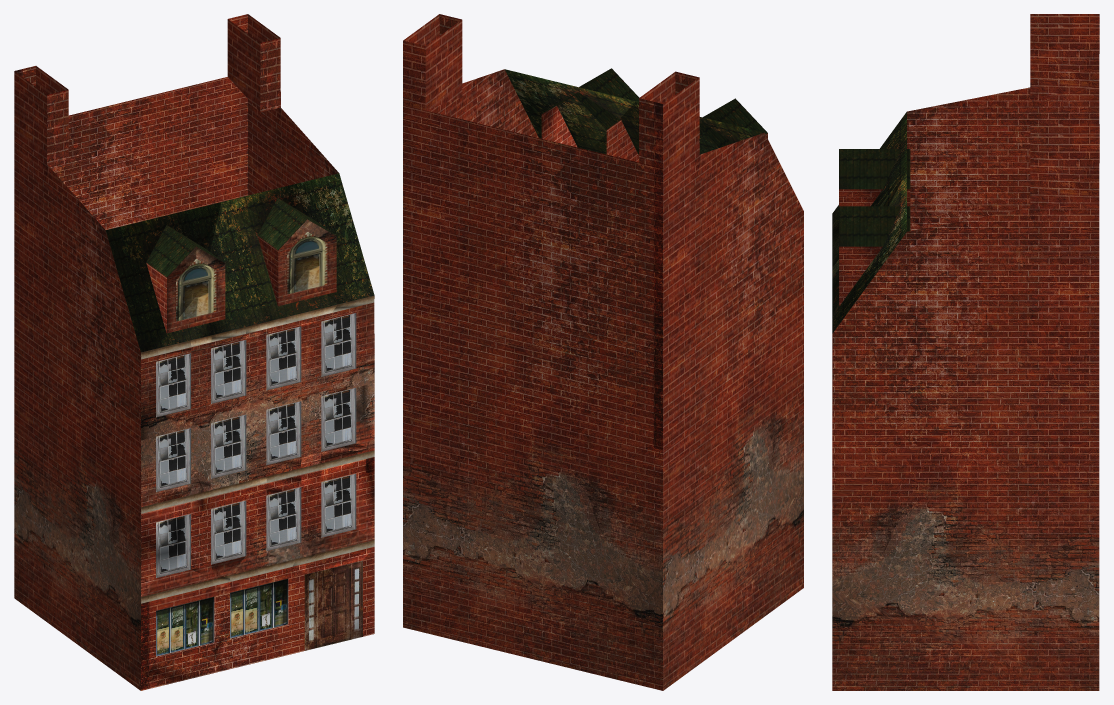
The model's file is Big_house2_LOD2.FBX.
3 views of the same model, side by side, from view 1: azimuth 30°, elevation 25°; view 2: azimuth 150°, elevation 25°; view 3: azimuth 270°, elevation 25° (orthographic). The views are drawn at different scales.
Parts seen in each view (by area): view 1: B03_LOD2; view 2: B03_LOD2; view 3: B03_LOD2.
Part boxes in pixels (left/top/right/bottom): B03_LOD2: left=14, top=14, right=374, bottom=690; B03_LOD2: left=403, top=14, right=803, bottom=690; B03_LOD2: left=832, top=14, right=1099, bottom=690.
Size of the model in its own units: 52.88 by 114 by 49.58.
1 material, 1 textured.
